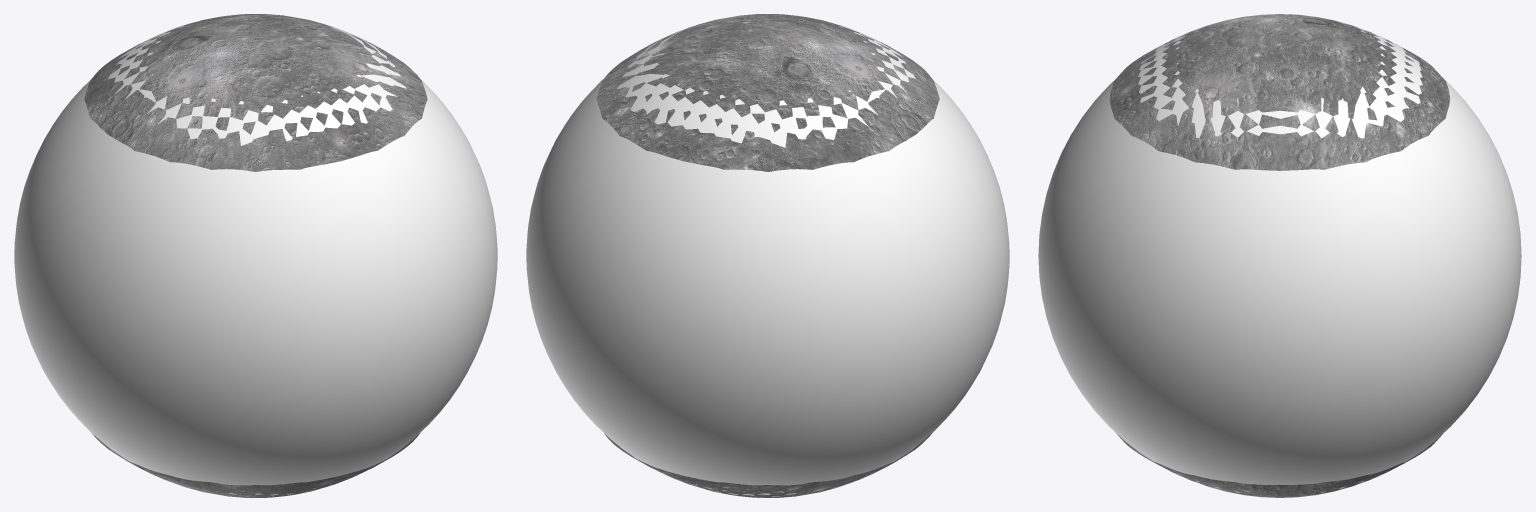
File: LunaModel.fbx
3 renders of one model, left to right at view 1: azimuth 30°, elevation 25°; view 2: azimuth 150°, elevation 25°; view 3: azimuth 270°, elevation 25°, orthographic.
Parts seen in each view (by area): view 1: moon_luna_atmo, LunaModel; view 2: moon_luna_atmo, LunaModel; view 3: moon_luna_atmo, LunaModel.
Boxes of the visible parts, left/top/right/bottom form: moon_luna_atmo: left=14, top=17, right=497, bottom=496; LunaModel: left=84, top=14, right=427, bottom=497; moon_luna_atmo: left=526, top=22, right=1009, bottom=497; LunaModel: left=596, top=14, right=939, bottom=497; moon_luna_atmo: left=1038, top=22, right=1521, bottom=494; LunaModel: left=1109, top=14, right=1450, bottom=497.
Bounding box in the file's own units: 40.19 × 40.63 × 40.2.
